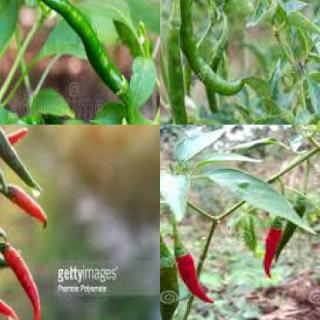green_chilli: (19, 0, 130, 101), (160, 20, 232, 124), (180, 0, 252, 91), (0, 125, 44, 189), (272, 202, 312, 263), (160, 257, 182, 319), (0, 111, 47, 124)
